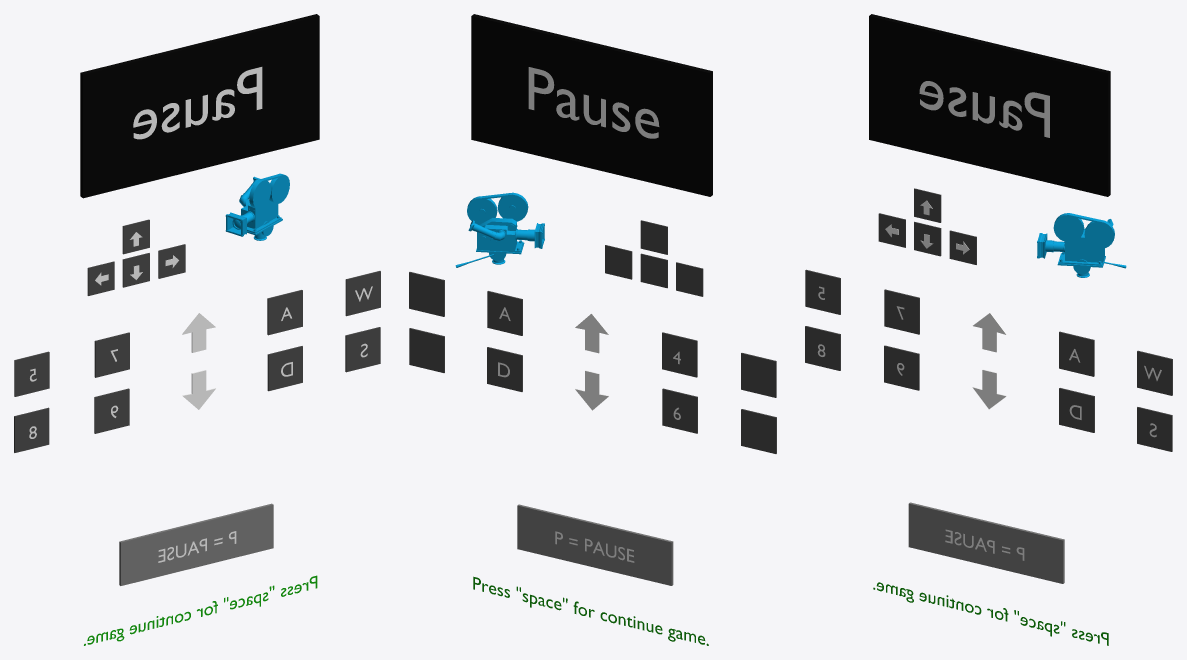
Rendered from MenuPauseSansCrabmehameha.glb.
3 views of the same model, side by side, from view 1: azimuth 30°, elevation 25°; view 2: azimuth 150°, elevation 25°; view 3: azimuth 330°, elevation 25° (orthographic).
Parts seen in each view (by area): view 1: Cube, Cube.001, rivetTR, Text.003, 7, 9, a.002, e.001, a, e.002, a.001, e (+7 smaller); view 2: Cube, Cube.001, rivetTR, Text, a.001, a.002, e.002, e.001, 7, 9, a, e (+7 smaller); view 3: Cube, Cube.001, rivetTR, Text.003, 7, 9, a.002, e.001, a, e.002, a.001, e (+7 smaller).
Boxes of the visible parts, bbox=[...] form: Cube: bbox=[80, 14, 319, 198]; Cube.001: bbox=[119, 503, 273, 585]; rivetTR: bbox=[225, 173, 289, 240]; Text.003: bbox=[133, 67, 262, 139]; 7: bbox=[94, 332, 129, 377]; 9: bbox=[94, 388, 129, 433]; a.002: bbox=[14, 351, 49, 396]; e.001: bbox=[345, 327, 380, 372]; a: bbox=[267, 290, 302, 335]; e.002: bbox=[14, 407, 49, 452]; a.001: bbox=[345, 271, 380, 316]; e: bbox=[267, 346, 302, 391]; Cube: bbox=[471, 14, 712, 196]; Cube.001: bbox=[517, 504, 673, 585]; rivetTR: bbox=[455, 192, 544, 267]; Text: bbox=[528, 67, 659, 138]; a.001: bbox=[409, 272, 444, 316]; a.002: bbox=[741, 353, 776, 397]; e.002: bbox=[741, 409, 776, 453]; e.001: bbox=[409, 328, 444, 372]; 7: bbox=[662, 332, 697, 377]; 9: bbox=[662, 388, 697, 433]; a: bbox=[487, 291, 522, 335]; e: bbox=[487, 347, 522, 391]; Cube: bbox=[869, 14, 1110, 196]; Cube.001: bbox=[908, 502, 1064, 583]; rivetTR: bbox=[1037, 213, 1126, 277]; Text.003: bbox=[919, 81, 1049, 137]; 7: bbox=[884, 289, 919, 334]; 9: bbox=[884, 345, 919, 390]; a.002: bbox=[805, 269, 840, 314]; e.001: bbox=[1137, 407, 1172, 451]; a: bbox=[1059, 331, 1094, 376]; e.002: bbox=[805, 326, 840, 370]; a.001: bbox=[1137, 350, 1172, 395]; e: bbox=[1059, 388, 1094, 432].
Size of the model in its own units: 21.08 by 31.76 by 3.62.
